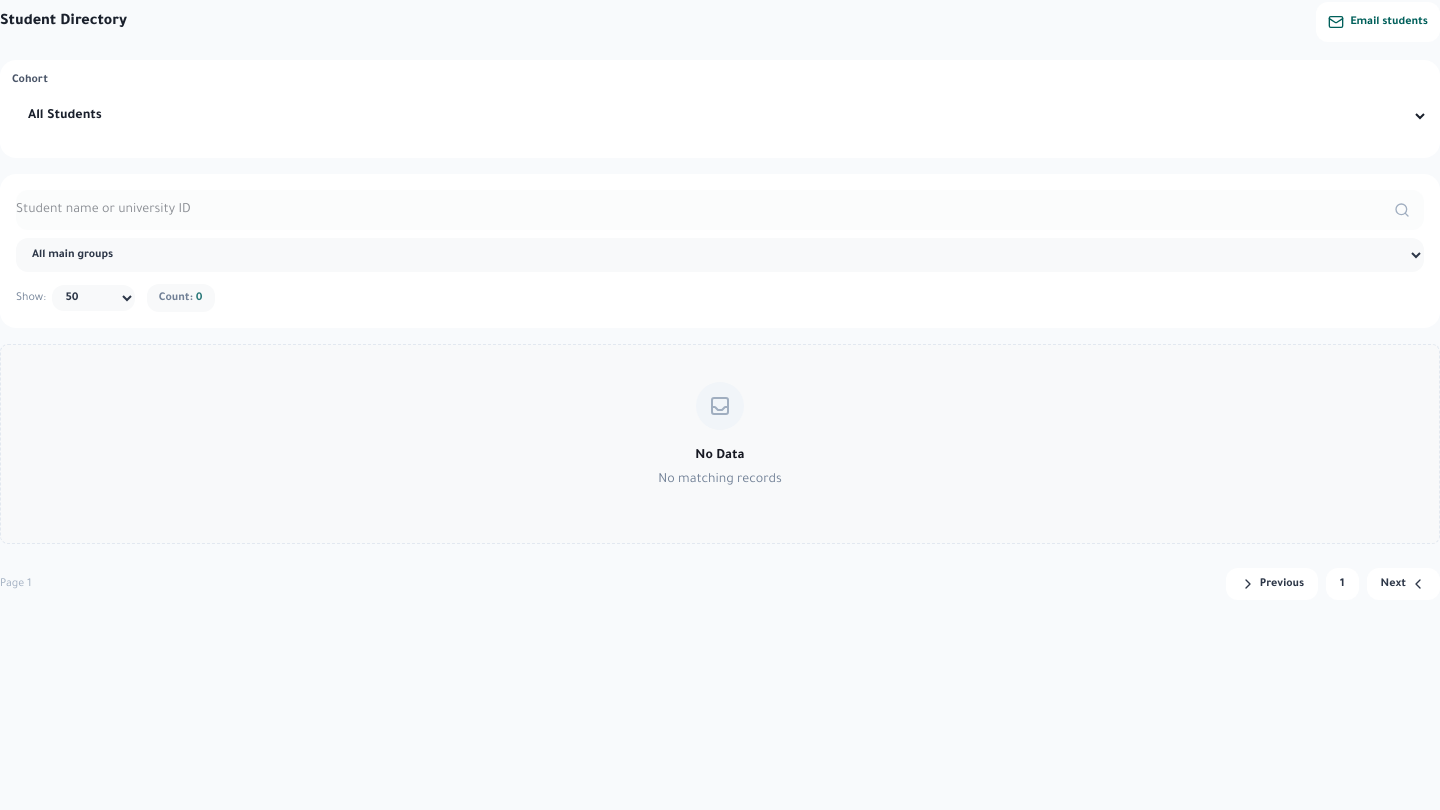
Scenario: student directory email action › keeps individually selected students across cohorts and excludes missing addresses
This screenshot has width=1440, height=810.
Click the button "Email students" at point(1378, 22), box [1316, 2, 1439, 42]
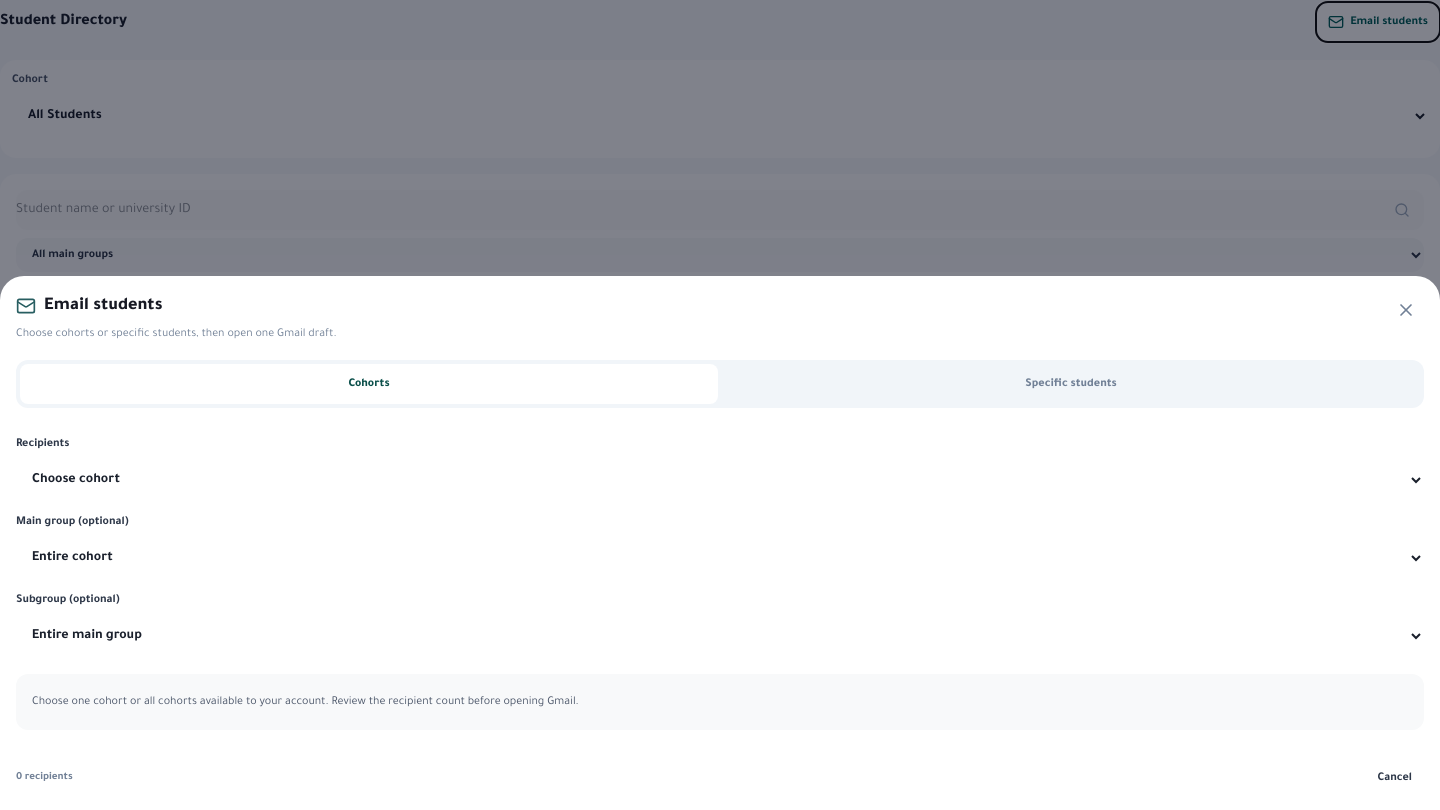
Click the tab "Specific students" at point(1071, 384), box [722, 364, 1420, 404]
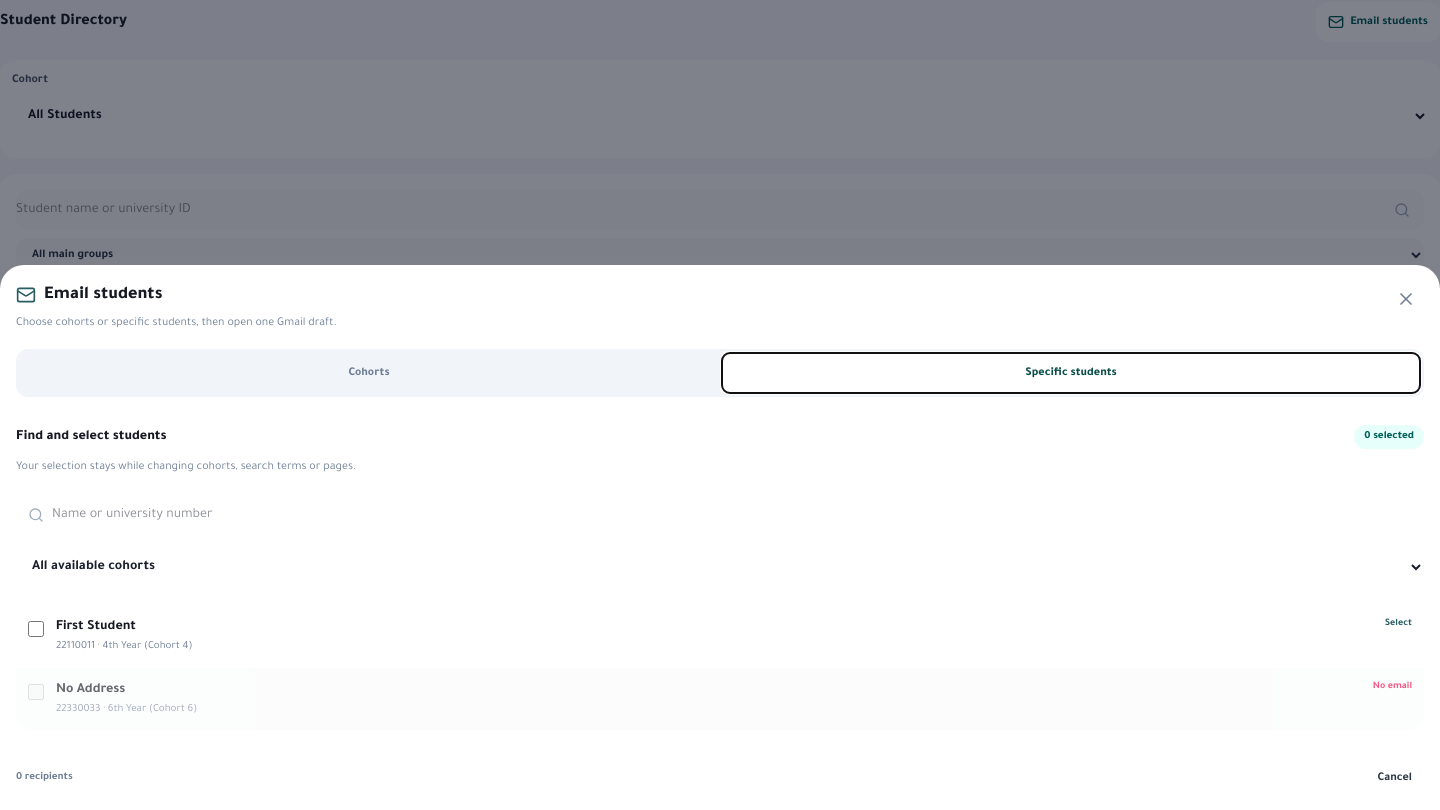
Click the checkbox named "Select student First Student" at point(36, 629), box [28, 621, 44, 637]
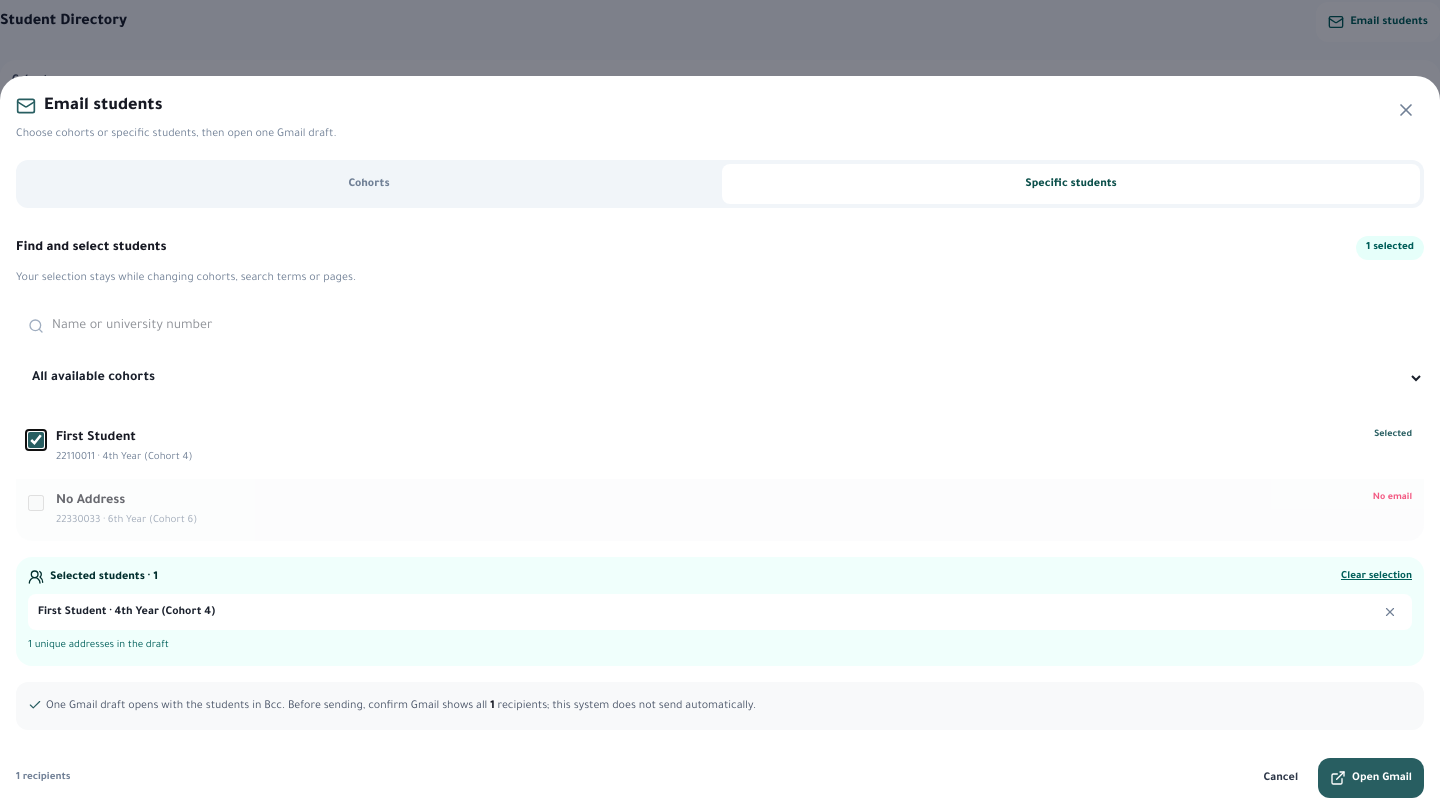
Expected: the checkbox named "Select student No Address" is disabled, [28, 494, 44, 510]
Select "5th Year (Cohort 5)" in the dropdown named "Filter student cohort" at point(720, 378), box [16, 356, 1424, 400]
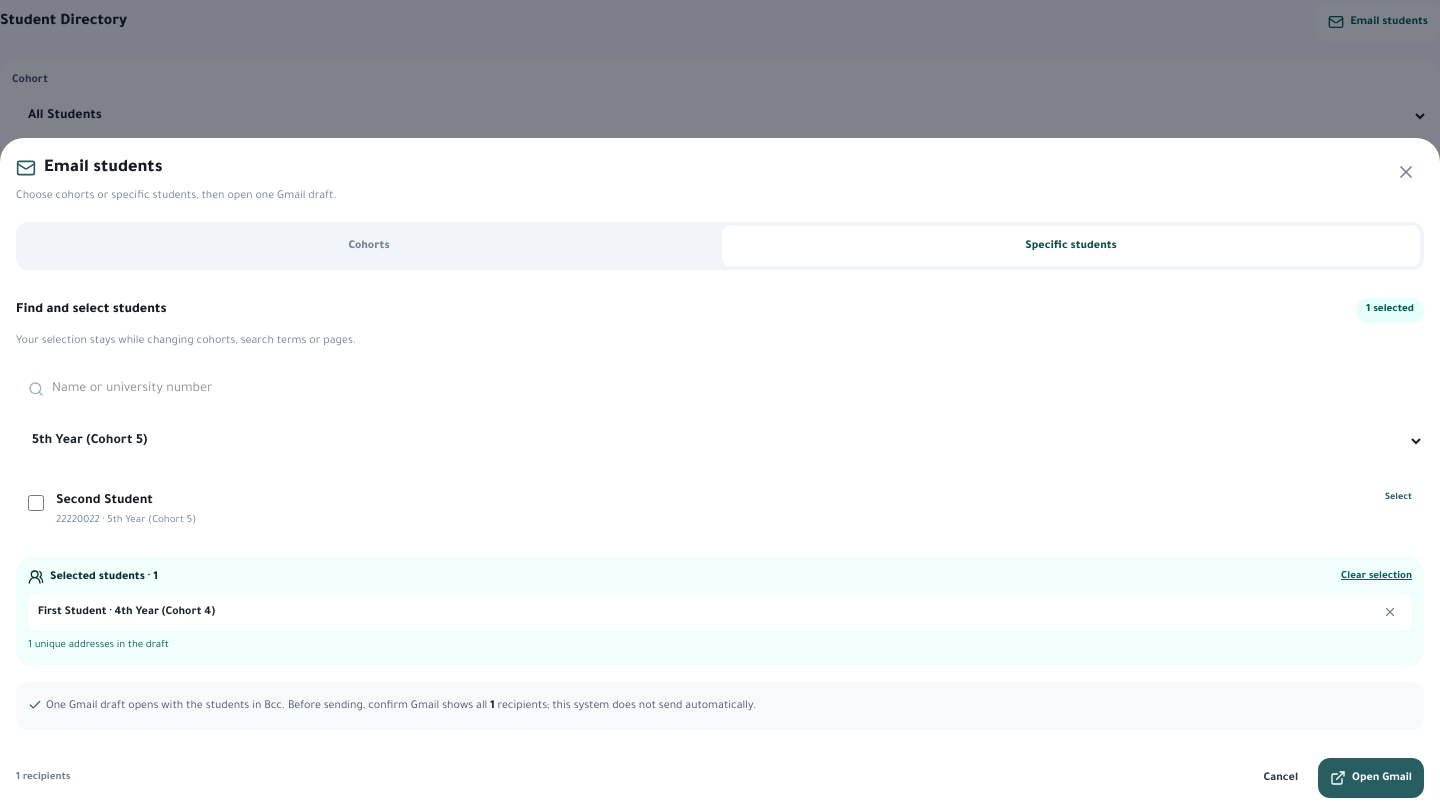
Click the checkbox named "Select student Second Student" at point(36, 502), box [28, 494, 44, 510]
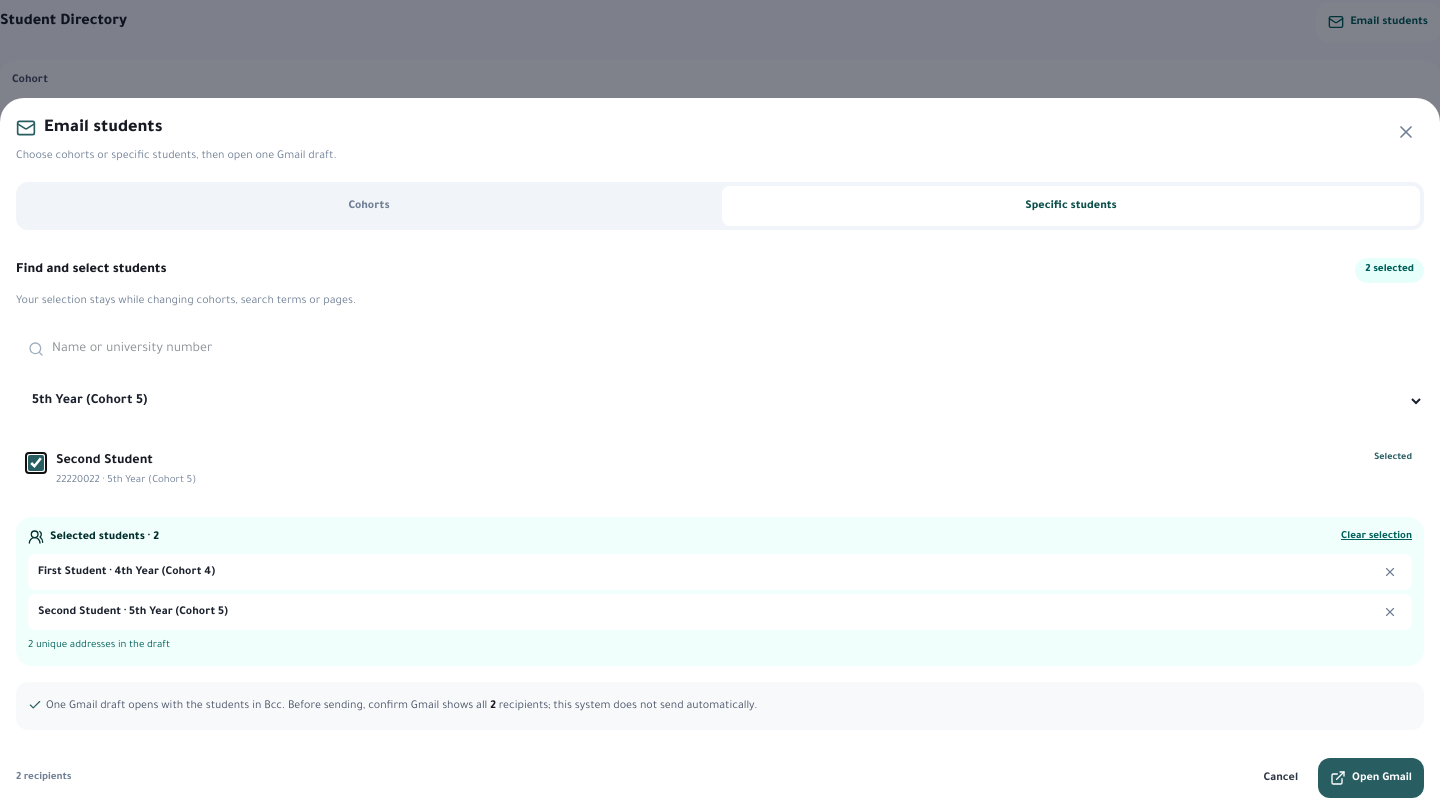
Expected: the text "2 unique addresses in the draft" is shown, [28, 640, 170, 650]
